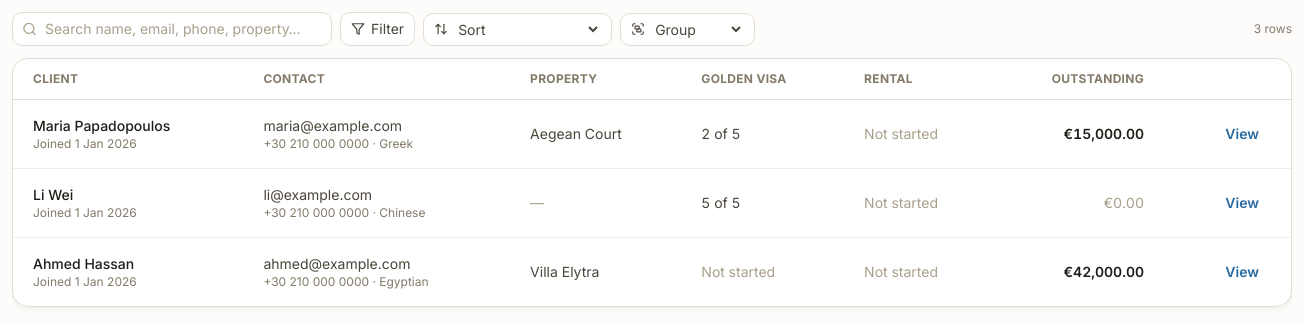
saved views › surfaces a failed save inline rather than throwing
Type "maria" into the search field named "Search this table" at (172, 29), box [12,12,332,46]
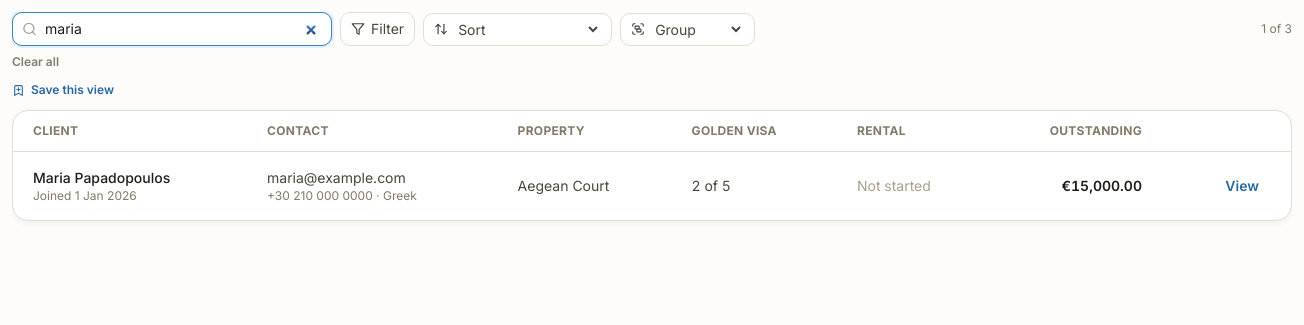
Click the button "Save this view" at (63, 90), box [12,82,114,98]
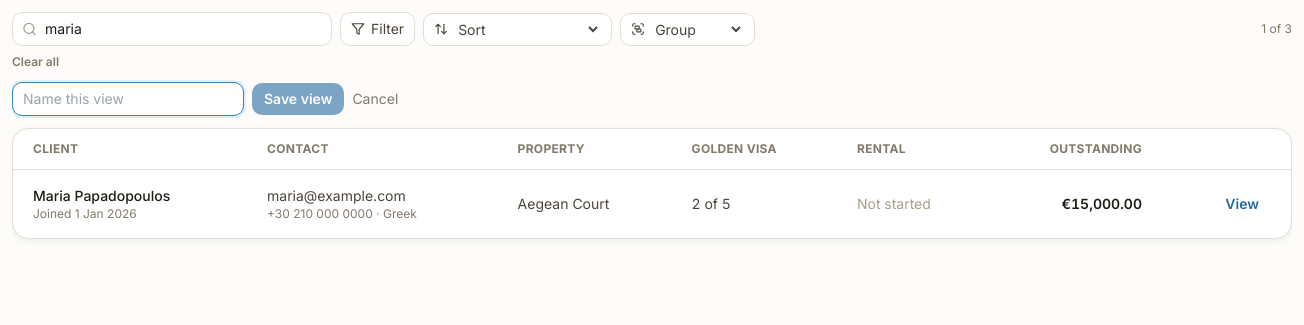
Type "X" into the field labelled "Name this view" at (128, 99), box [12,82,244,116]
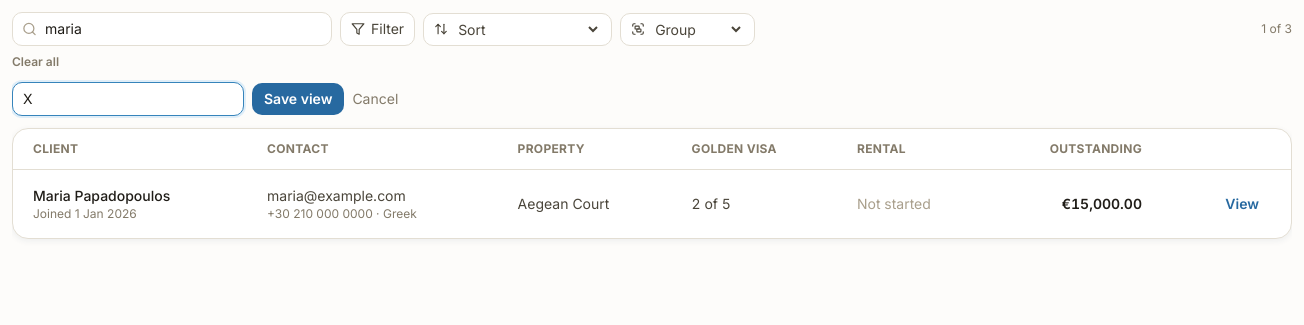
Click the button "Save view" at (298, 99), box [252,83,344,115]
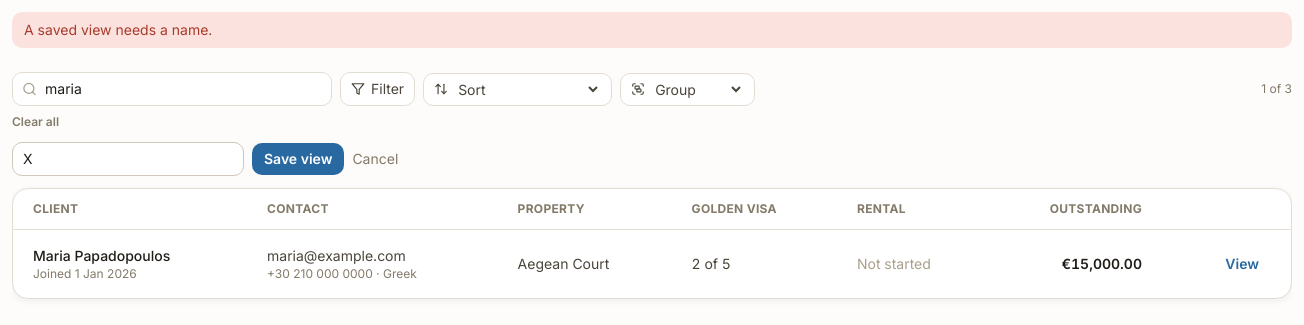
Check: the message shows "needs a name", box [24,21,212,38]
